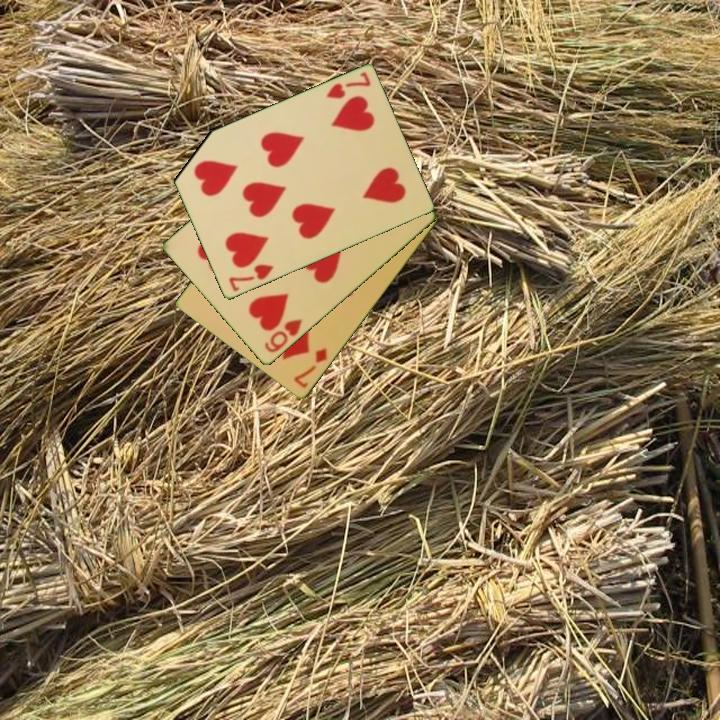6h: (261, 315, 305, 356)
7d: (290, 345, 330, 391)
7h: (225, 261, 277, 295), (322, 68, 373, 102)
